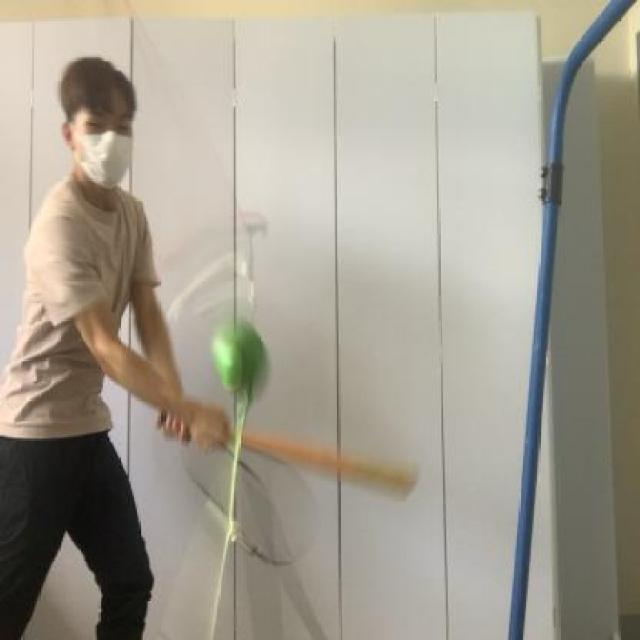baseball: (210, 319, 267, 396)
